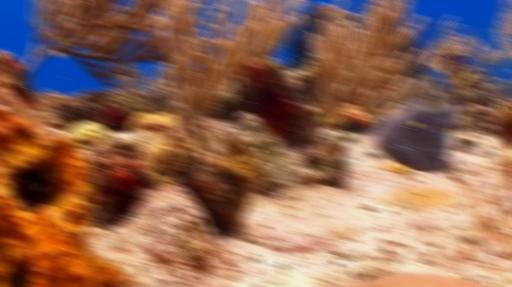Fish: (5, 53, 34, 106), (419, 93, 452, 111), (497, 58, 506, 66), (411, 122, 420, 126)
